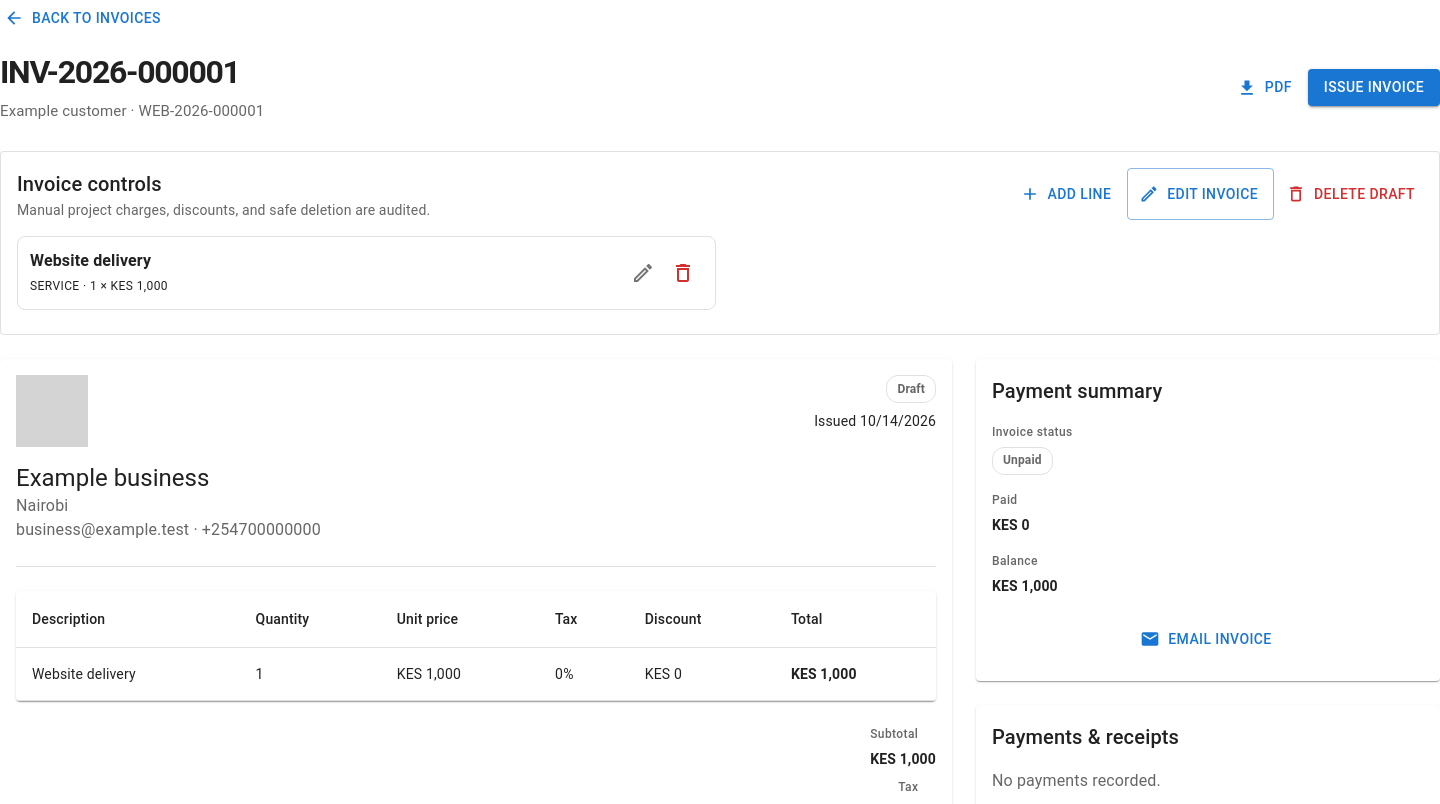
Test: digital manual billing and KRA feature gate › uses the same discounted-tax preview and validation when editing invoice lines
Click the button named "Edit" at [643, 273], box [623,253,663,293]
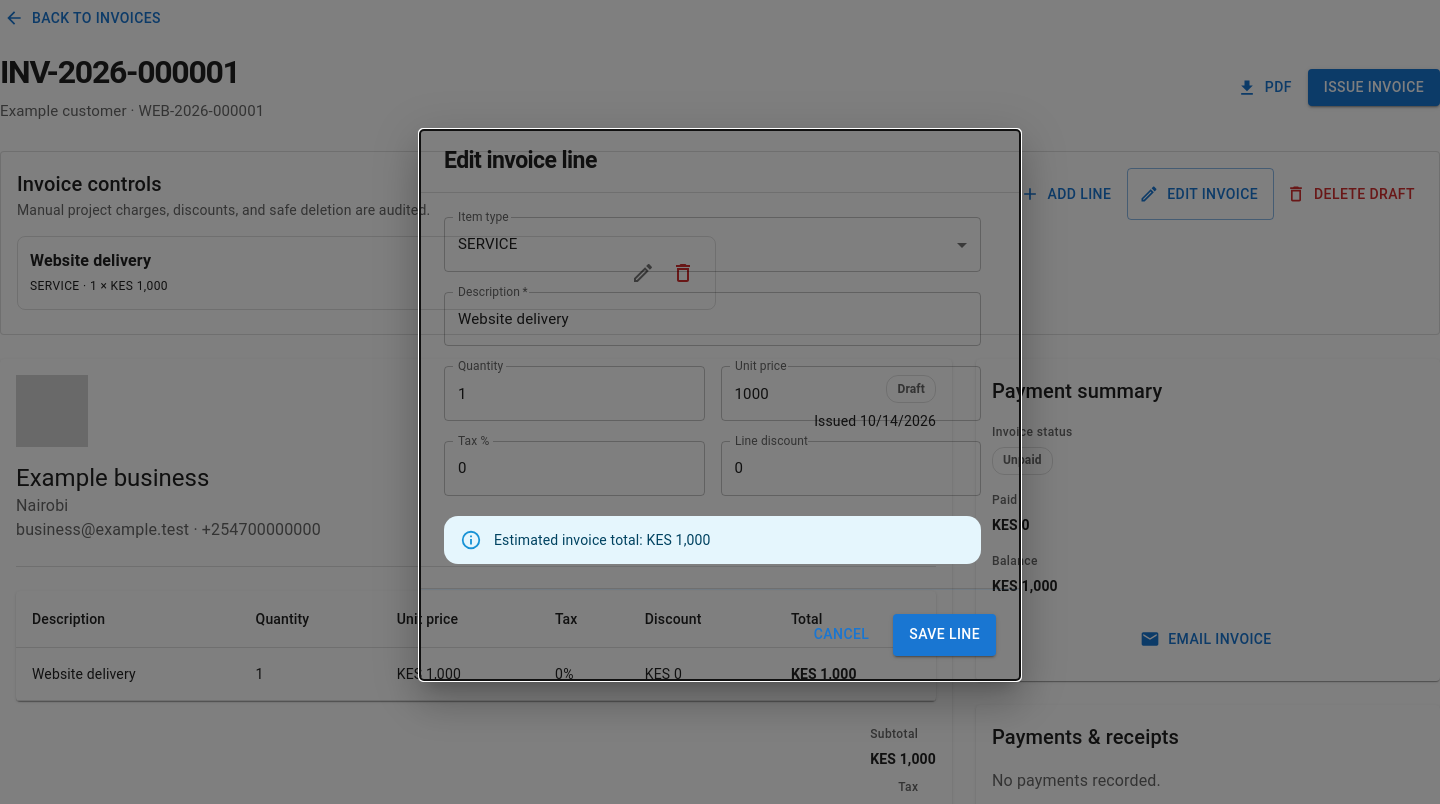
Replace the text in the number field labelled "Tax %" with "16" at [574, 468], box [444,441,704,496]
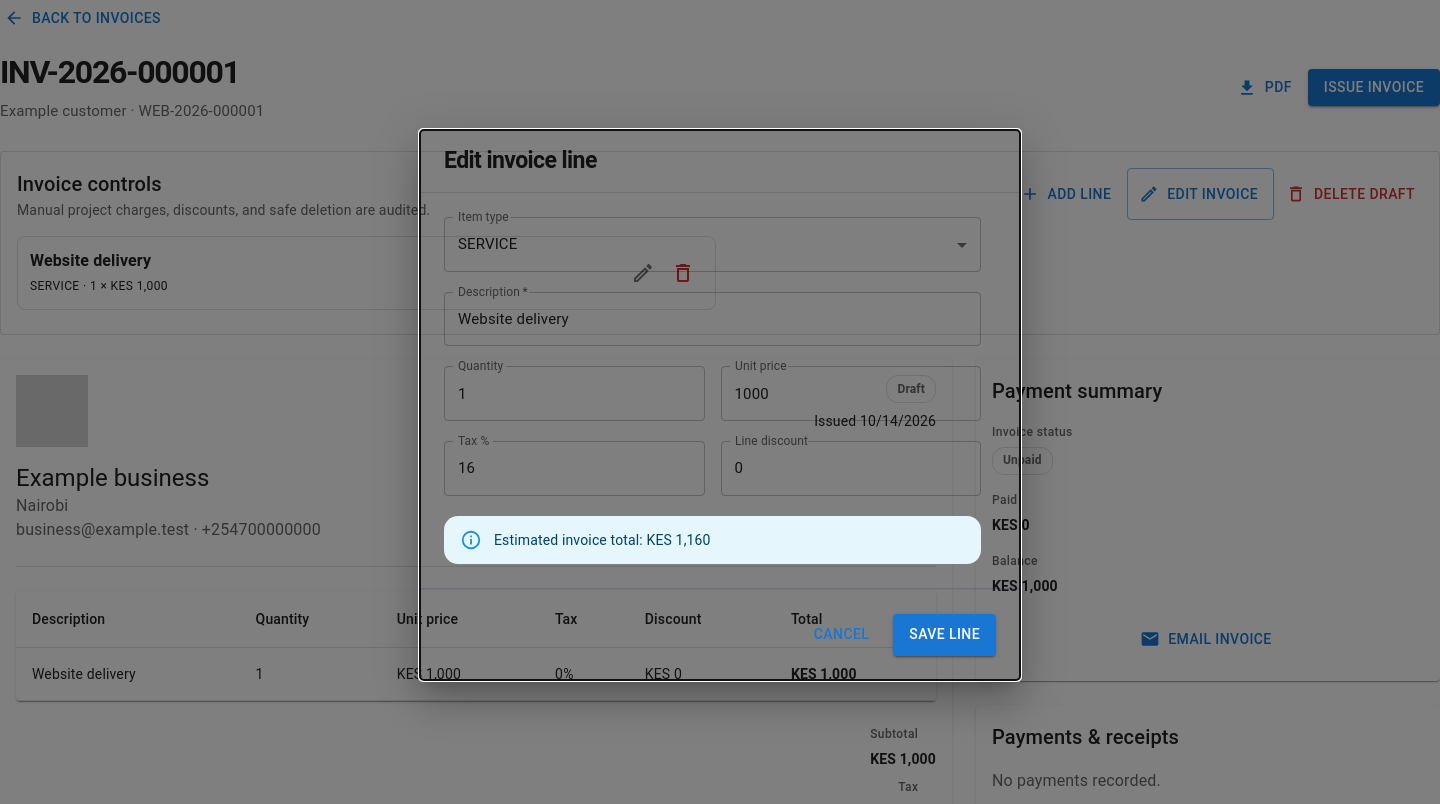
Replace the text in the number field labelled "Line discount" with "100" at [851, 468], box [720,441,981,496]
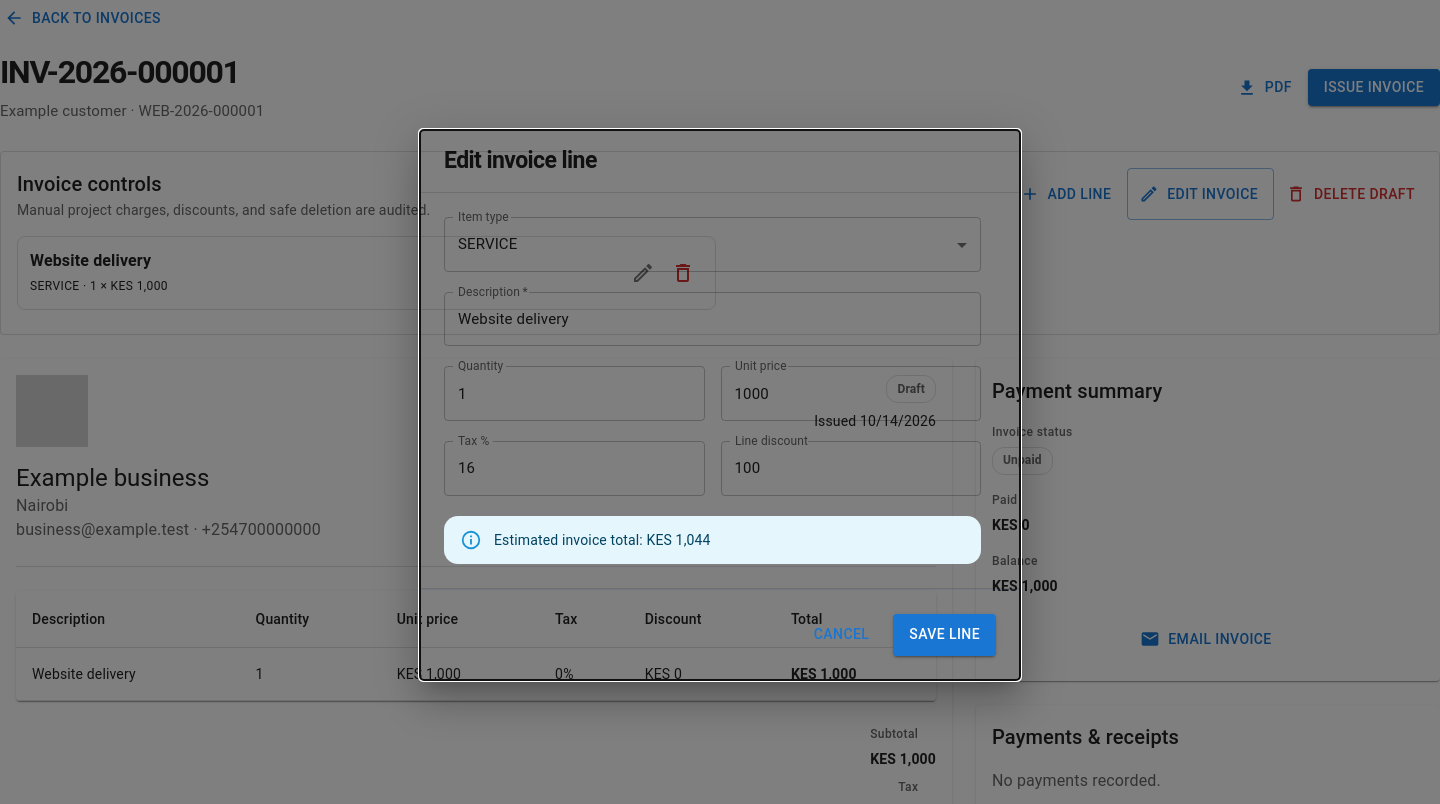
Now the button "Save line" is enabled, box [893,614,996,656]
Now the text "Estimated invoice total: KES 1,044" is shown, box [494,532,711,548]
Replace the text in the number field labelled "Line discount" with "1001" at [851, 468], box [720,441,981,496]
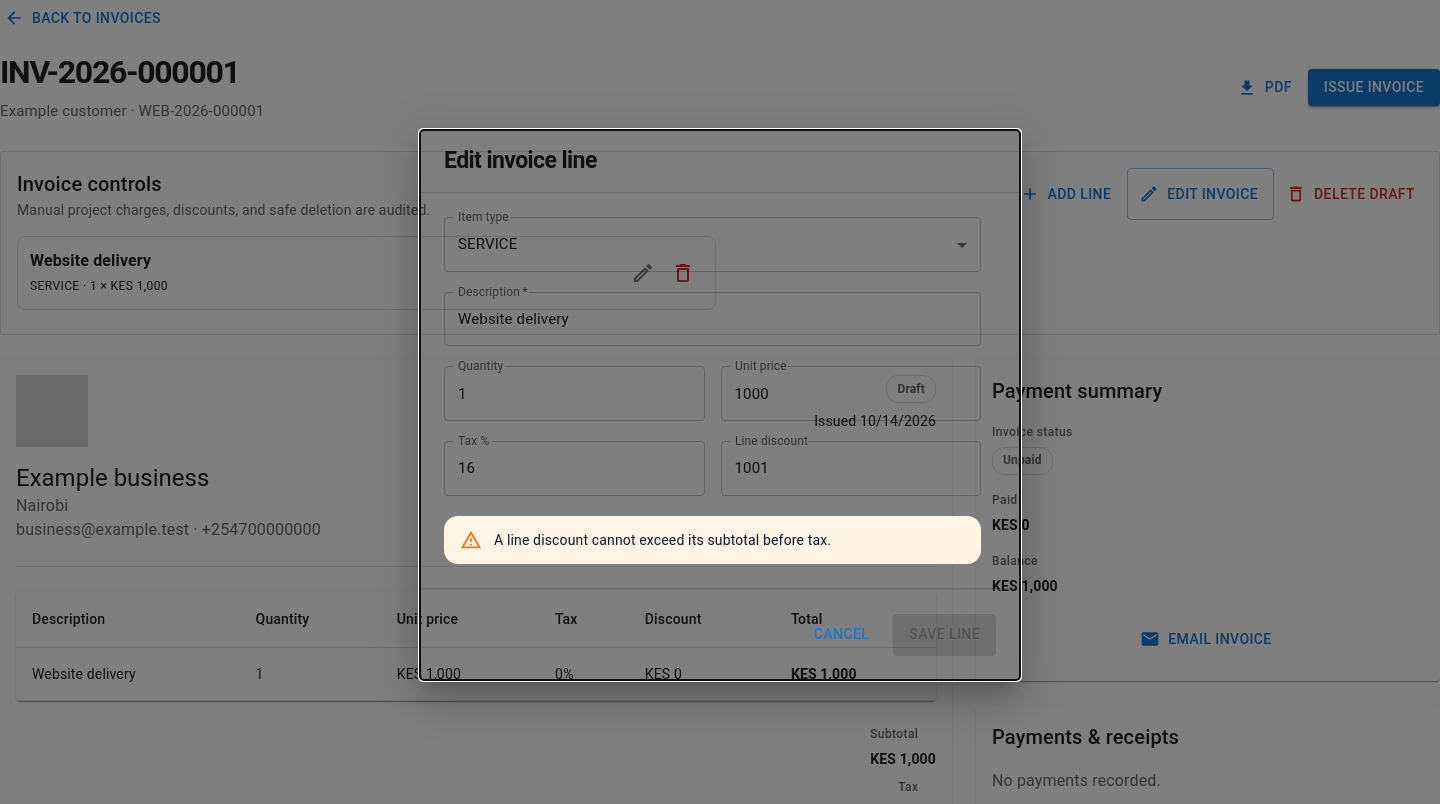
Now the button "Save line" is disabled, box [893,614,996,656]
Now the text "A line discount cannot exceed its subtotal before tax." is shown, box [494,532,831,548]
